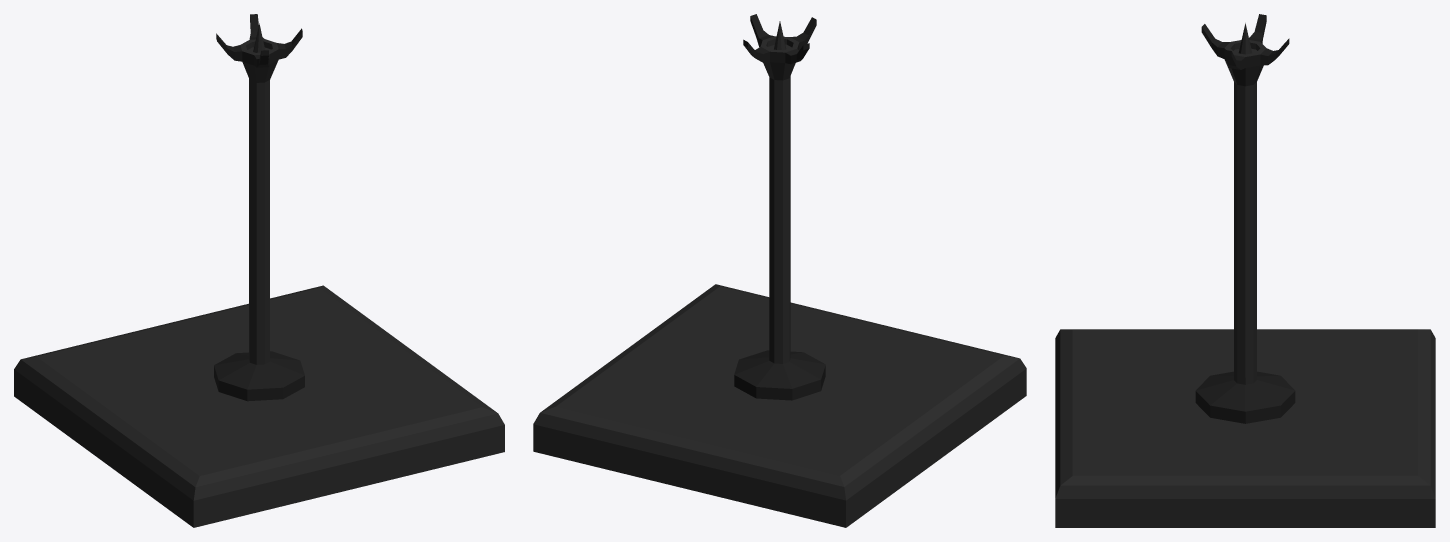
File: BallSpike.fbx
The picture shows the model from 3 angles, left to right: view 1: azimuth 30°, elevation 25°; view 2: azimuth 150°, elevation 25°; view 3: azimuth 270°, elevation 25°; orthographic projection. The views are drawn at different scales.
Visible parts, largest first — view 1: BallSpike; view 2: BallSpike; view 3: BallSpike.
Boxes of the visible parts, x1,y1,x2,y2 form: BallSpike: [14, 14, 504, 527]; BallSpike: [533, 14, 1026, 527]; BallSpike: [1055, 14, 1435, 527].
Bounding box in the file's own units: 449 × 553 × 449.
